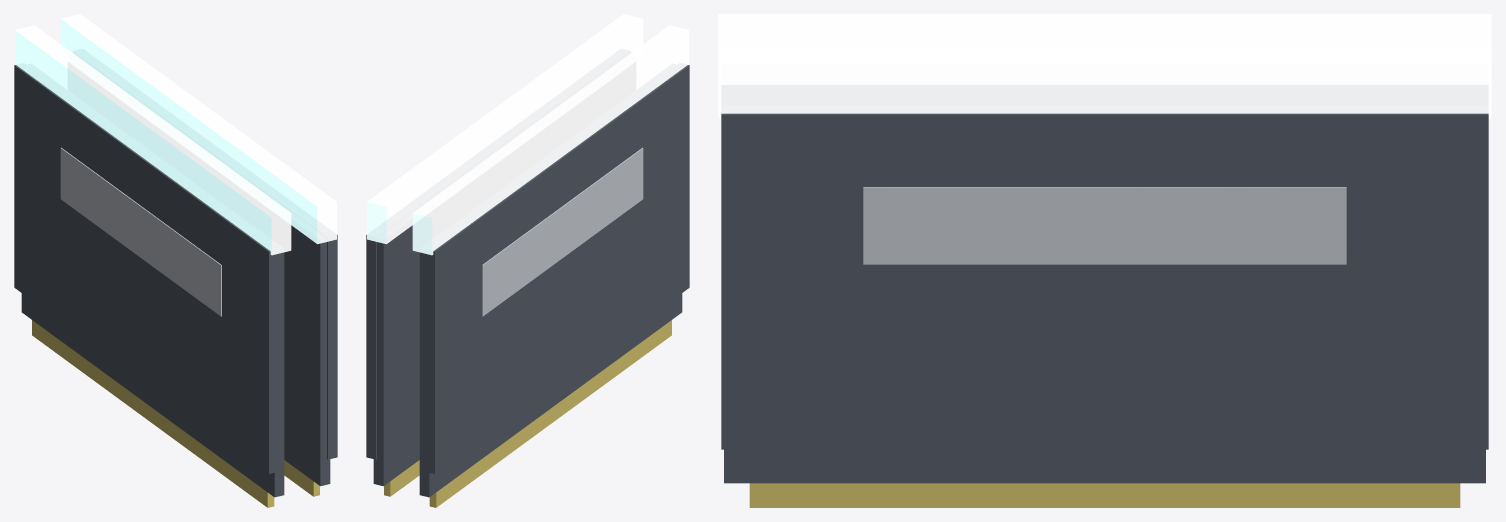
File: ram.glb
3 renders of one model, left to right at view 1: azimuth 30°, elevation 25°; view 2: azimuth 150°, elevation 25°; view 3: azimuth 270°, elevation 25°, orthographic. The views are drawn at different scales.
Parts seen in each view (by area): view 1: Stick1_Armor_L, Stick1_RGB_Bar, Stick2_RGB_Bar, Stick2_PCB, Stick1_SilverAccent, Stick1_PCB, Stick1_Gold, Stick2_Armor_R, Stick2_Gold; view 2: Stick1_Armor_L, Stick1_RGB_Bar, Stick2_RGB_Bar, Stick2_PCB, Stick1_SilverAccent, Stick1_PCB, Stick1_Gold, Stick2_Armor_R, Stick2_Gold; view 3: Stick2_Armor_R, Stick2_RGB_Bar, Stick2_SilverAccent, Stick2_PCB, Stick1_RGB_Bar, Stick2_Gold.
Part boxes in pixels (bbox=[...]): Stick1_Armor_L: bbox=[14, 65, 278, 473]; Stick1_RGB_Bar: bbox=[15, 25, 291, 255]; Stick2_RGB_Bar: bbox=[60, 14, 336, 244]; Stick2_PCB: bbox=[284, 225, 330, 486]; Stick1_SilverAccent: bbox=[60, 147, 221, 316]; Stick1_PCB: bbox=[21, 252, 284, 497]; Stick1_Gold: bbox=[32, 320, 274, 507]; Stick2_Armor_R: bbox=[327, 235, 337, 459]; Stick2_Gold: bbox=[284, 460, 319, 496]; Stick1_Armor_L: bbox=[425, 65, 689, 473]; Stick1_RGB_Bar: bbox=[412, 25, 688, 255]; Stick2_RGB_Bar: bbox=[367, 14, 643, 244]; Stick2_PCB: bbox=[373, 225, 419, 486]; Stick1_SilverAccent: bbox=[482, 147, 643, 316]; Stick1_PCB: bbox=[419, 252, 682, 497]; Stick1_Gold: bbox=[429, 320, 671, 507]; Stick2_Armor_R: bbox=[366, 235, 376, 459]; Stick2_Gold: bbox=[384, 460, 419, 496]; Stick2_Armor_R: bbox=[721, 113, 1488, 449]; Stick2_RGB_Bar: bbox=[718, 47, 1491, 118]; Stick2_SilverAccent: bbox=[863, 187, 1346, 264]; Stick2_PCB: bbox=[724, 449, 1485, 483]; Stick1_RGB_Bar: bbox=[718, 14, 1491, 47]; Stick2_Gold: bbox=[749, 483, 1460, 507].
Size of the model in its own units: 0.215 by 0.875 by 1.36.
